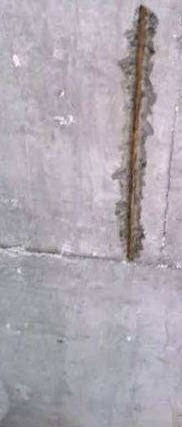Exposed reinforcement: (127, 5, 146, 259)
Spalling: (110, 5, 158, 261)
